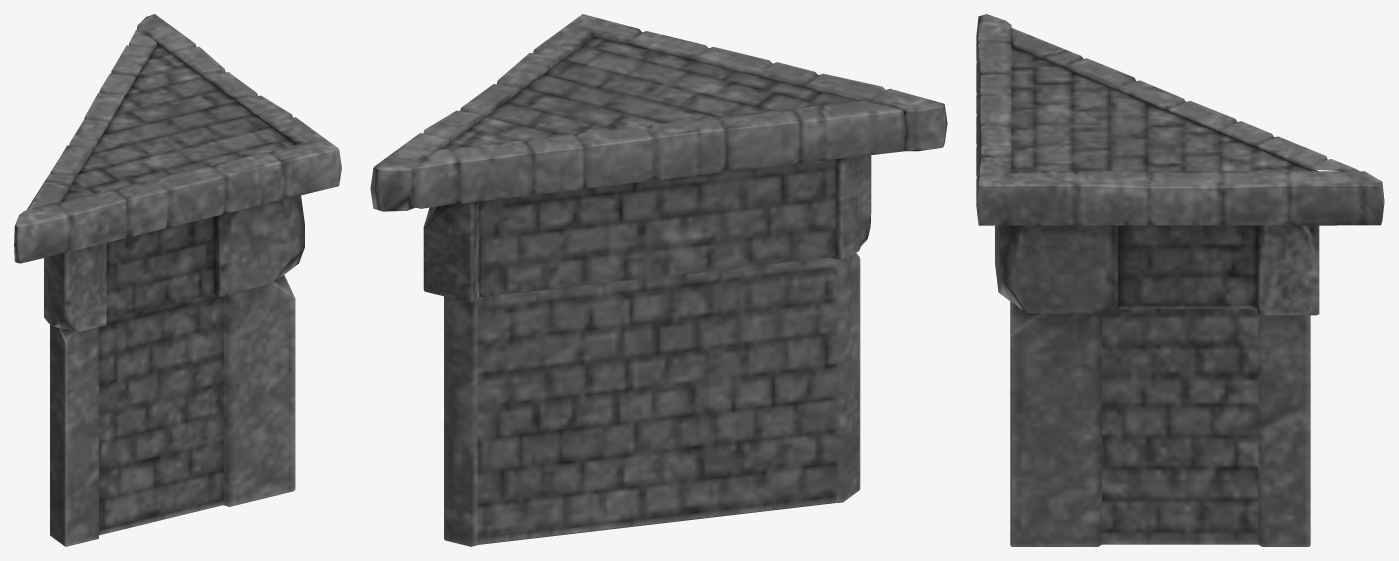
File: SM_FloorTryangle_Stone_995463.glb
3 views of the same model, side by side, from view 1: azimuth 30°, elevation 25°; view 2: azimuth 150°, elevation 25°; view 3: azimuth 270°, elevation 25° (orthographic). The views are drawn at different scales.
Bounding box in the file's own units: 3.98 × 4.06 × 3.96.
1 material, 1 textured.
